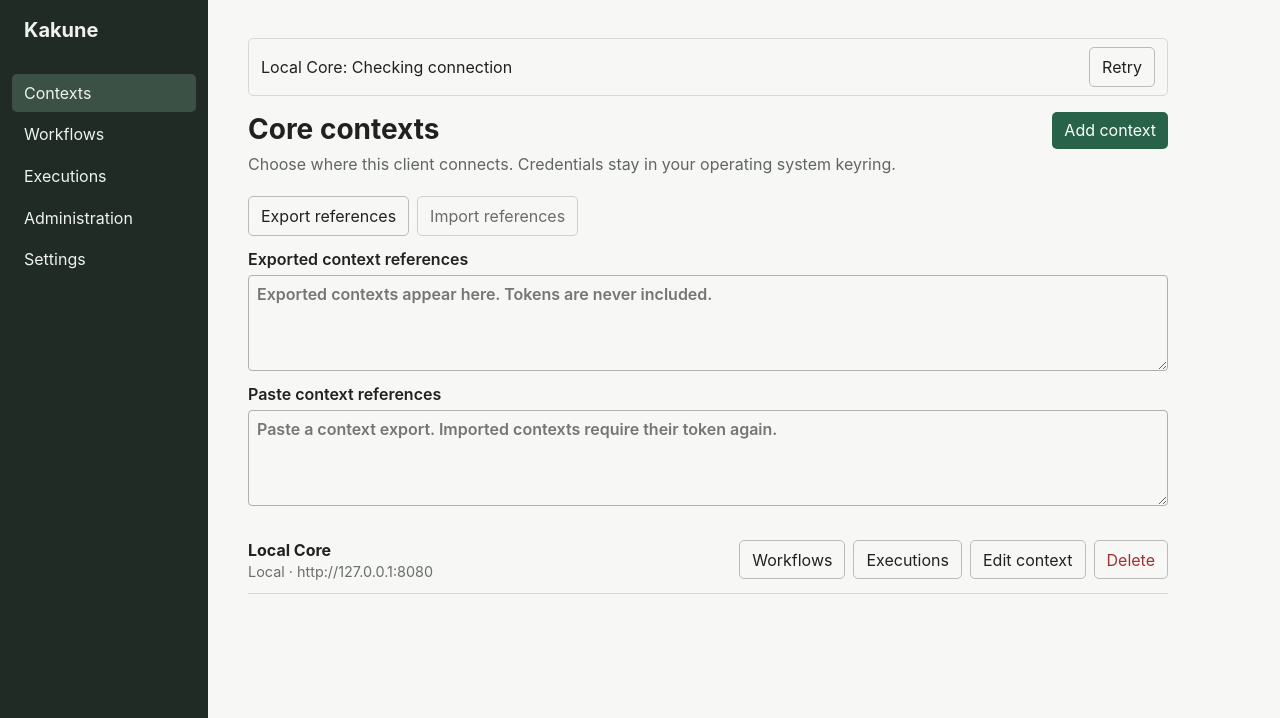
Test: Executions view › lists and inspects executions in the selected context
The image size is (1280, 718).
Click the button "Executions" below "Kakune": (104, 176) [12, 157, 196, 195]
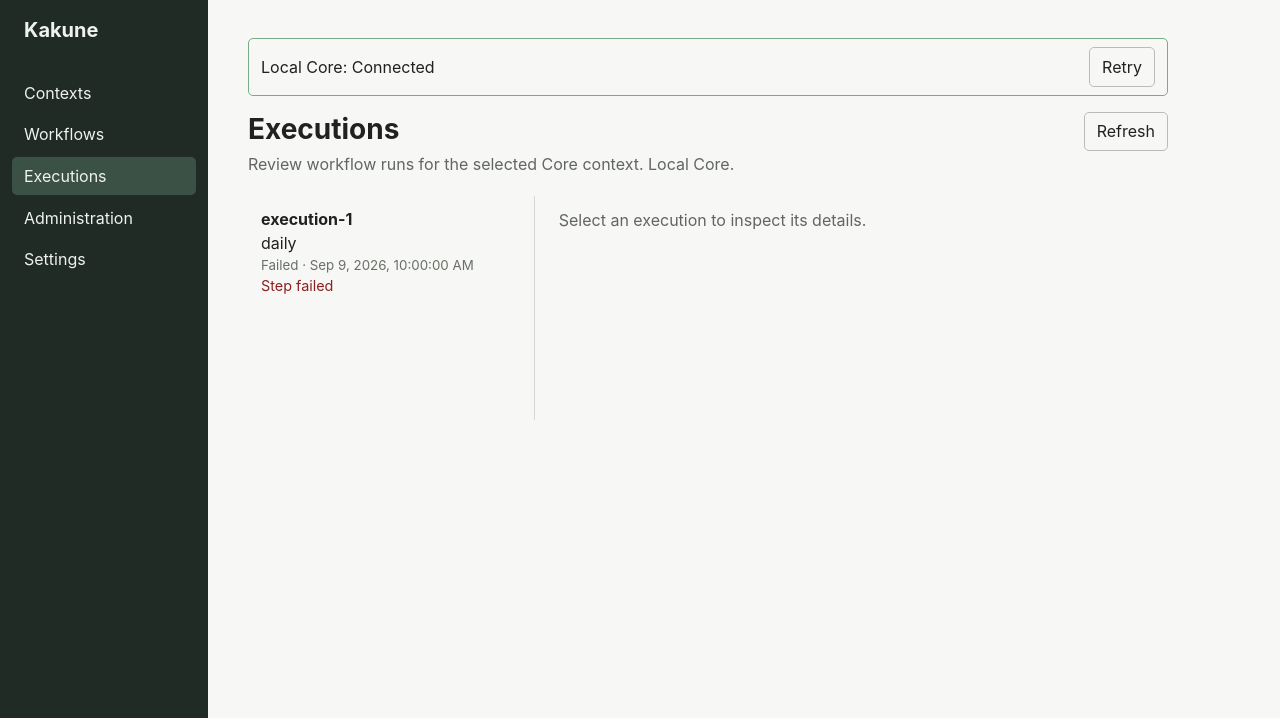
Result: the text "execution-1" is shown at [261, 209, 352, 229]
Click the button "execution-1": (307, 219) [248, 196, 518, 307]
(page scrolled)
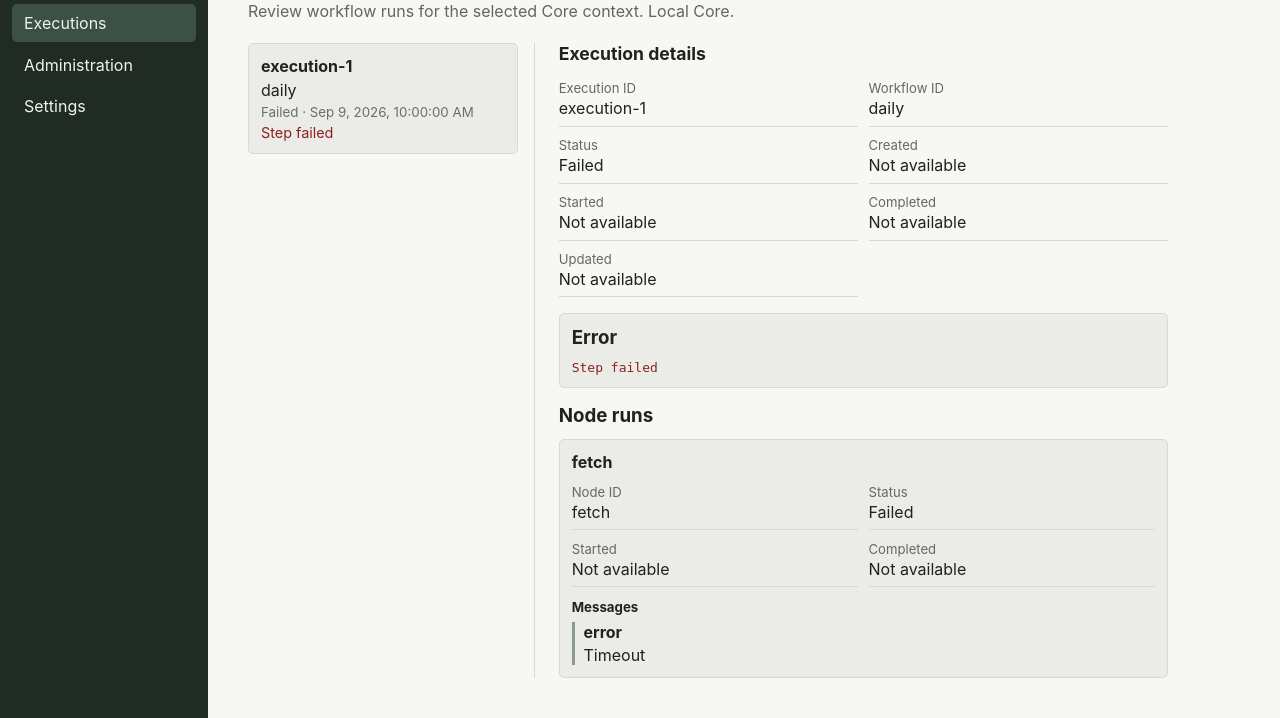
Result: the element "Execution details" is shown at [559, 43, 1168, 678]
Result: the text "Timeout" is shown at [584, 645, 645, 665]
